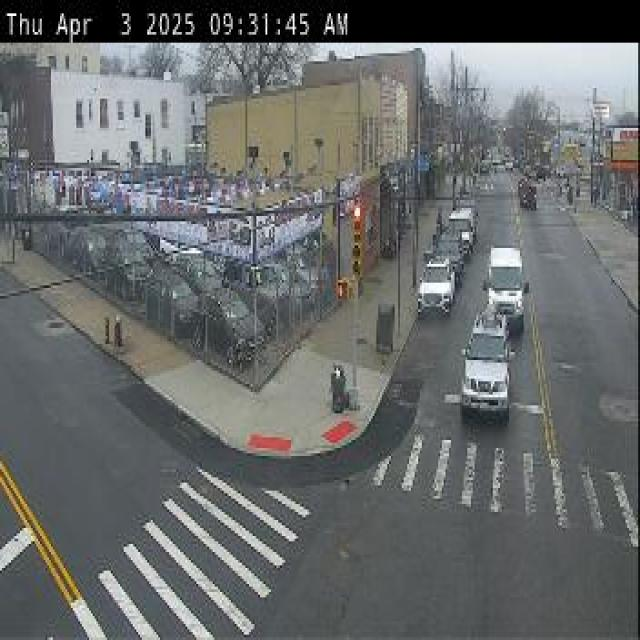open parking: (381, 278, 455, 392)
parkedCars: (416, 182, 486, 308)
